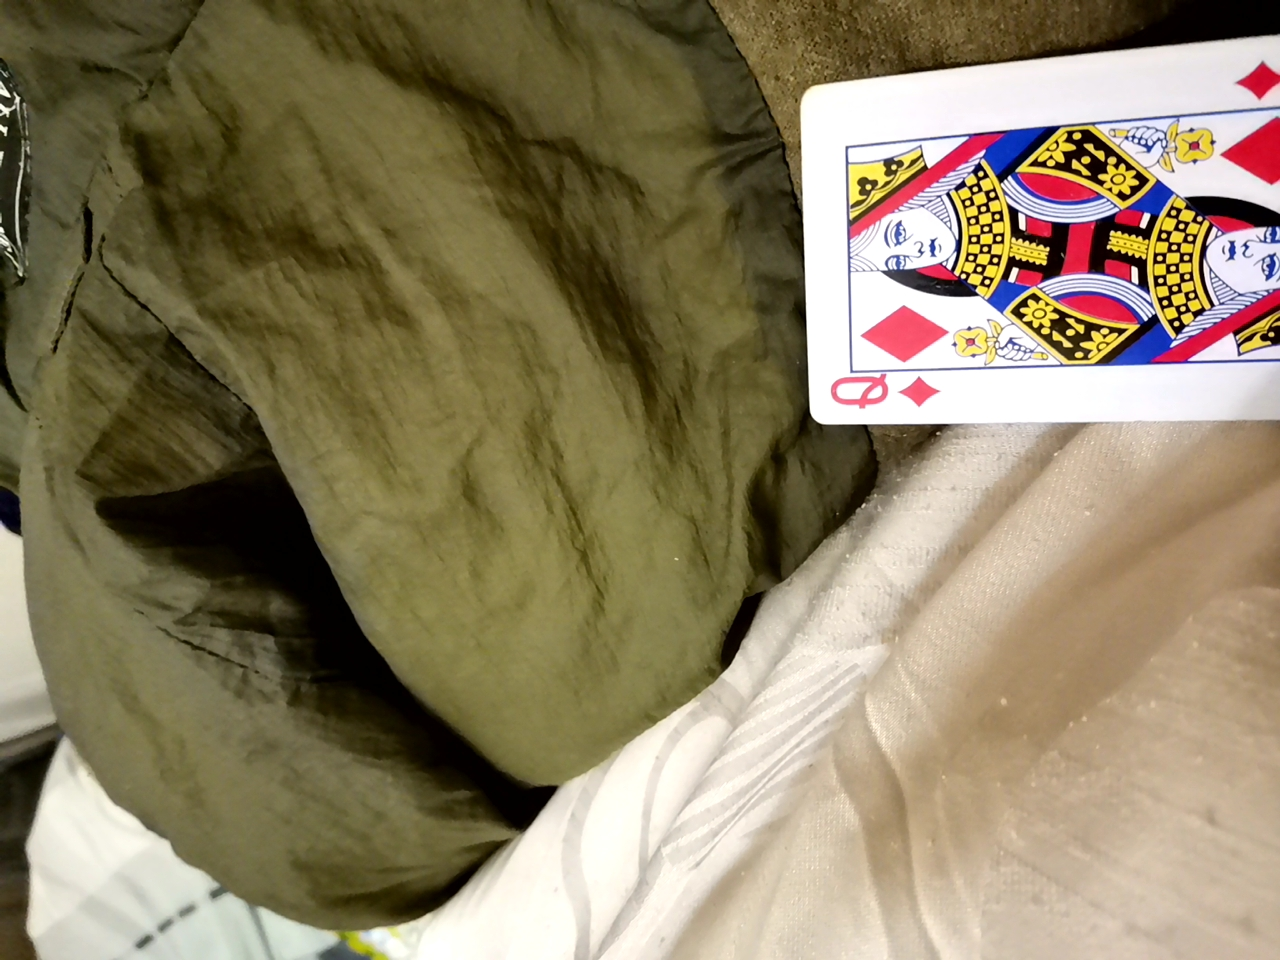fk q: (785, 18, 1269, 427)
